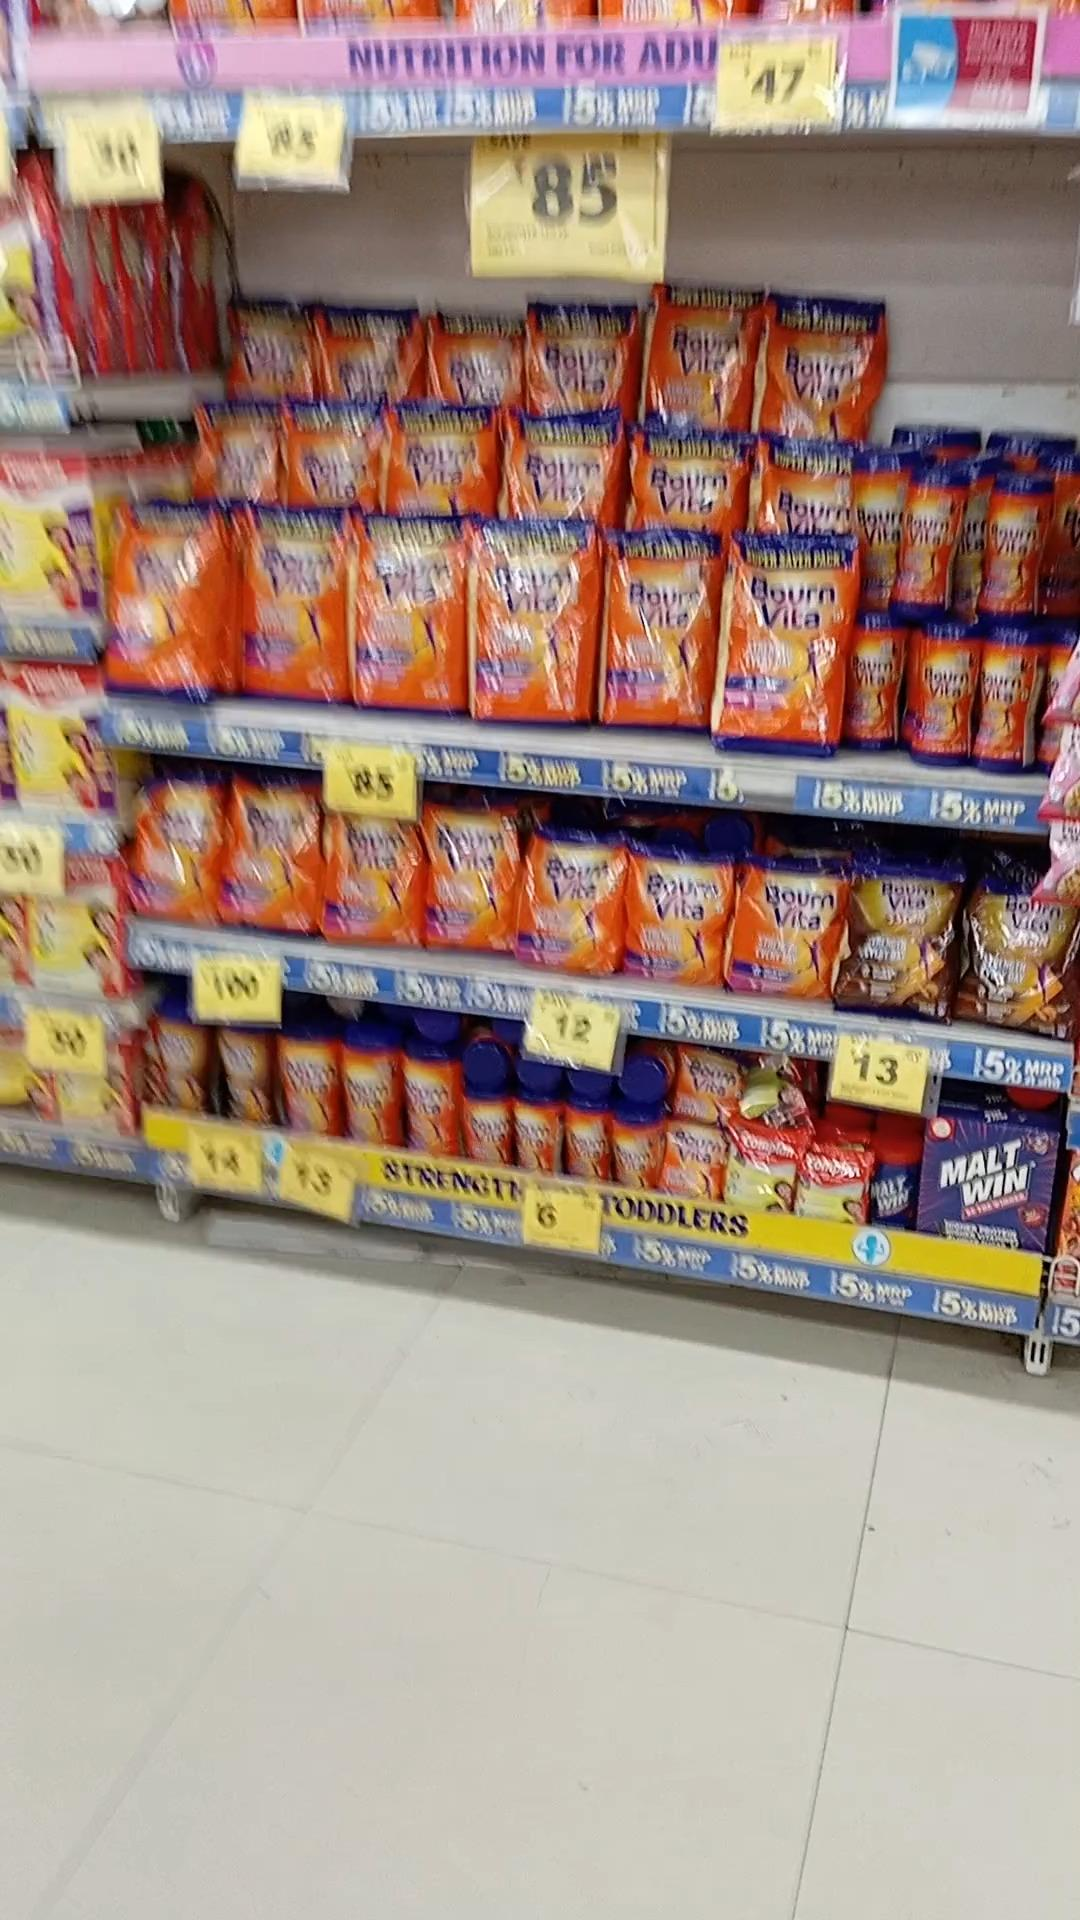BOURN_VITA_1_KG_POUCH: (735, 539, 844, 756), (477, 522, 588, 727), (611, 533, 716, 738), (360, 516, 465, 713), (239, 506, 343, 698), (113, 502, 203, 707), (766, 295, 882, 434), (654, 287, 753, 435), (389, 404, 497, 512), (526, 298, 632, 407), (510, 411, 613, 517), (637, 434, 749, 530), (287, 398, 378, 504), (765, 439, 855, 537)
BOURN_VITA_200_G_JAR: (611, 1097, 658, 1188), (462, 1080, 510, 1164), (516, 1091, 556, 1174), (566, 1092, 599, 1182)
BOURN_VITA_500_G_JAR: (894, 467, 961, 620), (982, 473, 1046, 618), (916, 625, 975, 771), (977, 626, 1026, 773), (277, 1022, 336, 1137), (853, 616, 898, 756), (401, 1048, 458, 1156), (344, 1031, 394, 1142)
BOURN_VITA_500_G_POUCH: (731, 860, 833, 1004), (525, 832, 615, 975), (229, 779, 311, 935), (324, 811, 414, 947), (630, 847, 717, 981), (132, 777, 215, 915), (429, 815, 509, 956)
BOURN_VITA_FIVE_STAR_MAGIC_500_G_JAR: (160, 1011, 210, 1117), (220, 1021, 269, 1124)
BOURN_VITA_FIVE_STAR_MAGIC_500_G_POUCH: (964, 884, 1067, 1035), (852, 866, 943, 1026)
COMPLAN_PISTA_BADAM_500_GMS_PACK: (4, 865, 119, 996)
